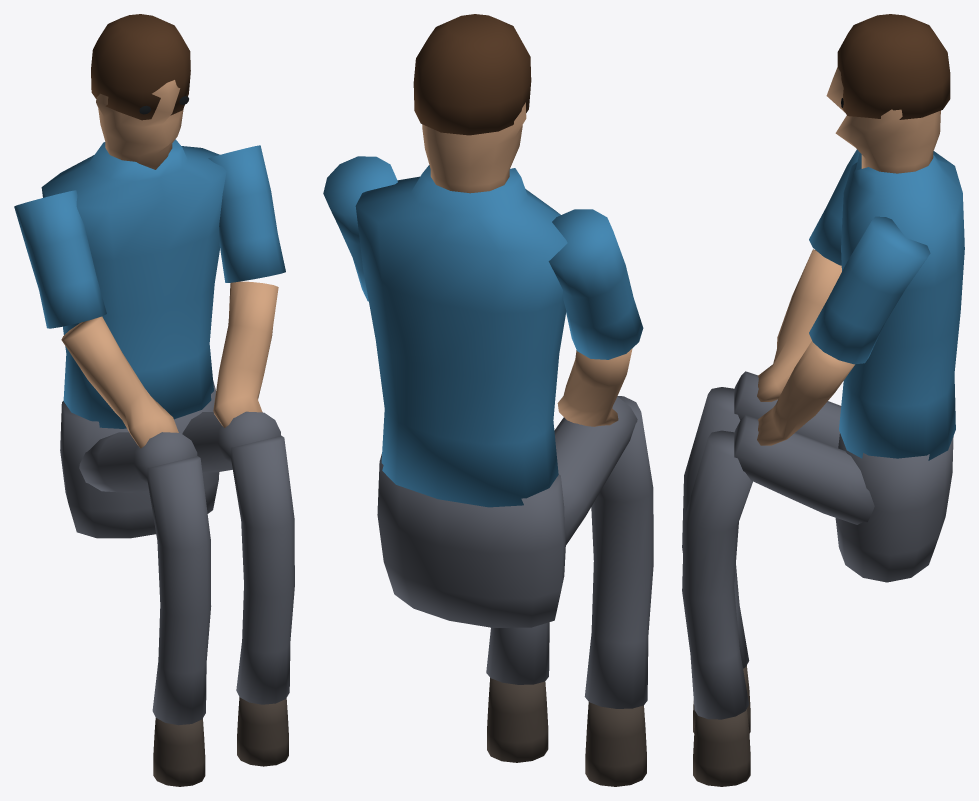
Rendered from rider.glb.
3 renders of one model, left to right at view 1: azimuth 30°, elevation 25°; view 2: azimuth 150°, elevation 25°; view 3: azimuth 270°, elevation 25°, orthographic. The views are drawn at different scales.
Visible parts, largest first — view 1: Rider_Torso, Rider_Shin_R, Rider_Shin_L, Rider_Sleeve_L, Rider_Hair, Rider_Pants_Pelvis, Rider_Sleeve_R, Rider_Hand_R, Rider_Hand_L, Rider_Thigh_L, Rider_Head, Rider_Thigh_R (+2 smaller); view 2: Rider_Torso, Rider_Pants_Pelvis, Rider_Shin_L, Rider_Hair, Rider_Sleeve_L, Rider_Thigh_L, Rider_Head, Rider_Shoe_L, Rider_Shoe_R, Rider_Hand_L, Rider_Sleeve_R, Rider_Shin_R; view 3: Rider_Torso, Rider_Shin_R, Rider_Pants_Pelvis, Rider_Hair, Rider_Sleeve_R, Rider_Thigh_R, Rider_Head, Rider_Hand_L, Rider_Hand_R, Rider_Shoe_R, Rider_Shin_L, Rider_Thigh_L (+1 smaller).
Boxes of the visible parts, bbox=[...] form: Rider_Torso: bbox=[41, 139, 226, 428]; Rider_Shin_R: bbox=[231, 435, 294, 704]; Rider_Shin_L: bbox=[147, 456, 211, 725]; Rider_Sleeve_L: bbox=[14, 190, 106, 328]; Rider_Hair: bbox=[91, 14, 190, 120]; Rider_Pants_Pelvis: bbox=[60, 380, 219, 538]; Rider_Sleeve_R: bbox=[208, 145, 285, 282]; Rider_Hand_R: bbox=[213, 281, 278, 427]; Rider_Hand_L: bbox=[61, 316, 178, 448]; Rider_Thigh_L: bbox=[79, 432, 197, 492]; Rider_Head: bbox=[96, 80, 183, 169]; Rider_Thigh_R: bbox=[182, 411, 280, 472]; Rider_Torso: bbox=[355, 165, 567, 507]; Rider_Pants_Pelvis: bbox=[377, 454, 565, 627]; Rider_Shin_L: bbox=[584, 396, 653, 708]; Rider_Hair: bbox=[413, 14, 531, 135]; Rider_Sleeve_L: bbox=[548, 209, 643, 359]; Rider_Thigh_L: bbox=[554, 396, 637, 545]; Rider_Head: bbox=[422, 102, 526, 193]; Rider_Shoe_L: bbox=[585, 702, 646, 786]; Rider_Shoe_R: bbox=[487, 678, 548, 762]; Rider_Hand_L: bbox=[557, 348, 632, 426]; Rider_Sleeve_R: bbox=[323, 156, 397, 301]; Rider_Shin_R: bbox=[486, 622, 549, 684]; Rider_Torso: bbox=[839, 151, 964, 460]; Rider_Shin_R: bbox=[682, 430, 752, 719]; Rider_Pants_Pelvis: bbox=[835, 433, 953, 582]; Rider_Hair: bbox=[837, 14, 950, 119]; Rider_Sleeve_R: bbox=[809, 216, 930, 364]; Rider_Thigh_R: bbox=[734, 415, 874, 524]; Rider_Head: bbox=[826, 67, 940, 173]; Rider_Hand_L: bbox=[757, 249, 841, 401]; Rider_Hand_R: bbox=[757, 341, 854, 445]; Rider_Shoe_R: bbox=[693, 709, 750, 786]; Rider_Shin_L: bbox=[682, 387, 749, 668]; Rider_Thigh_L: bbox=[734, 371, 841, 448].
Size of the model in its own units: 0.43 by 1.17 by 0.4108.
